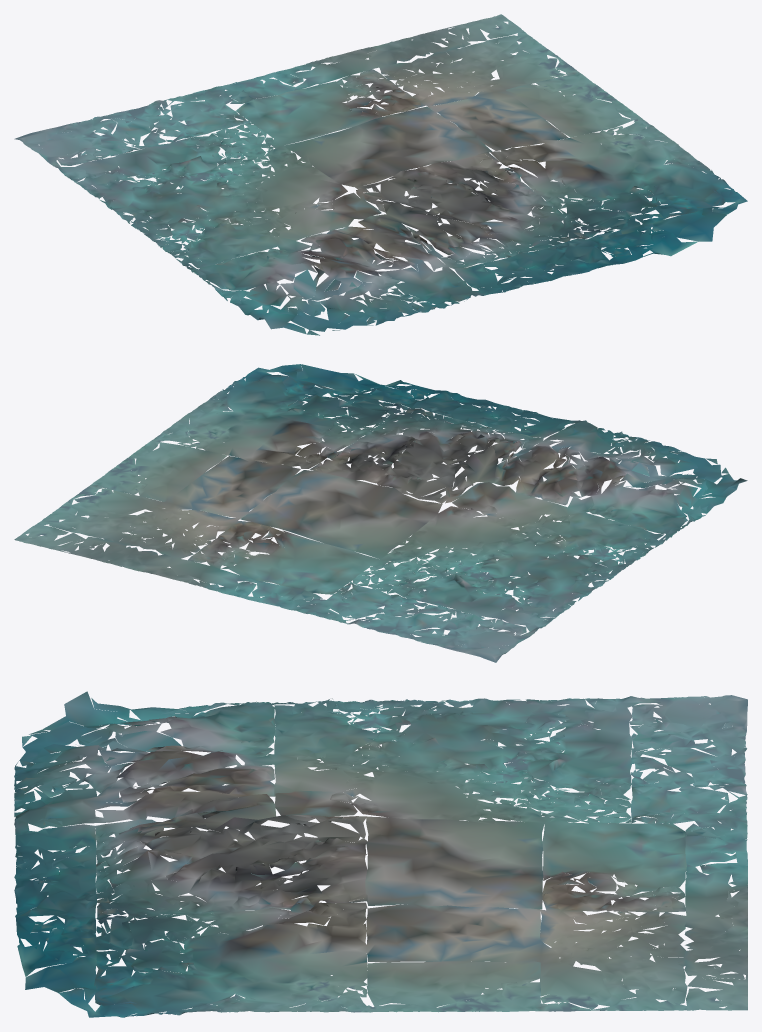
File: rock_reef.glb
The picture shows the model from 3 angles, top to bottom: view 1: azimuth 30°, elevation 25°; view 2: azimuth 150°, elevation 25°; view 3: azimuth 270°, elevation 25°; orthographic projection. The views are drawn at different scales.
Parts seen in each view (by area): view 1: Object_2; view 2: Object_2; view 3: Object_2.
Boxes of the visible parts, x1=… form: Object_2: x1=14, y1=14, x2=747, y2=335; Object_2: x1=14, y1=364, x2=747, y2=662; Object_2: x1=14, y1=691, x2=747, y2=1017.
Size of the model in its own units: 348 by 18.88 by 339.
